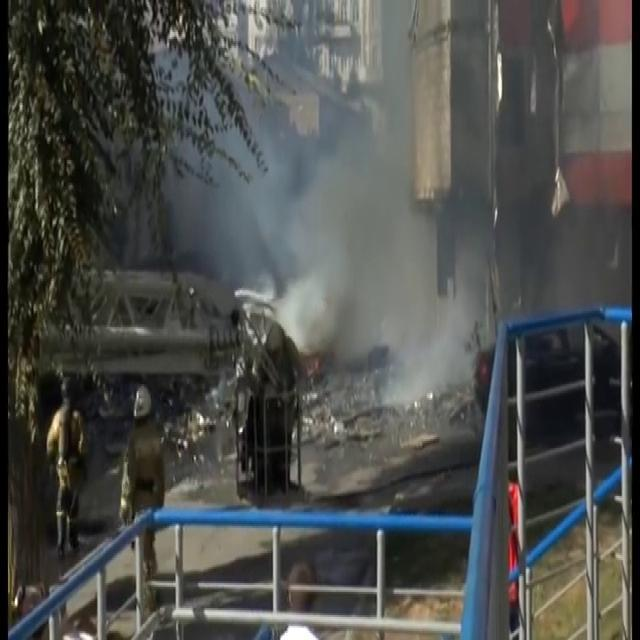Smoke: (197, 4, 466, 387)
